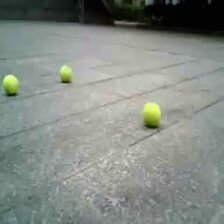tennis: (142, 103, 160, 127), (2, 75, 18, 94), (59, 66, 72, 81)
